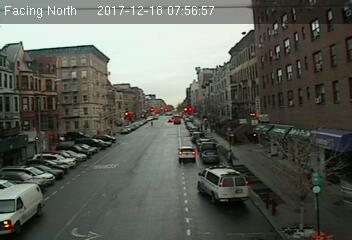car: (200, 151, 219, 164), (179, 146, 195, 160)
police: (195, 164, 250, 206)
